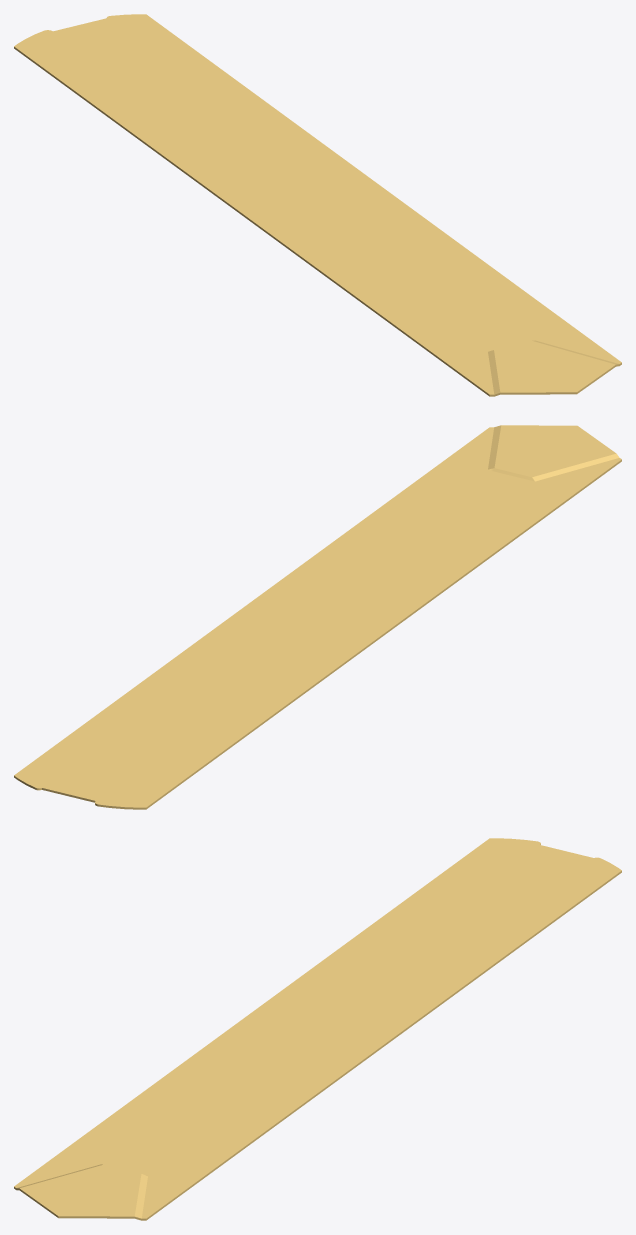
Rendered from original-41.obj.
The picture shows the model from 3 angles, top to bottom: view 1: azimuth 30°, elevation 25°; view 2: azimuth 150°, elevation 25°; view 3: azimuth 330°, elevation 25°; orthographic projection.
Parts seen in each view (by area): view 1: group_10/ID251#ID251; view 2: group_10/ID251#ID251; view 3: group_10/ID251#ID251.
Boxes of the visible parts, x1,y1,x2,y2 form: group_10/ID251#ID251: (14,14,621,396); group_10/ID251#ID251: (14,425,621,809); group_10/ID251#ID251: (14,838,621,1220).
Size of the model in its own units: 0.2086 by 0.00609 by 1.38.
